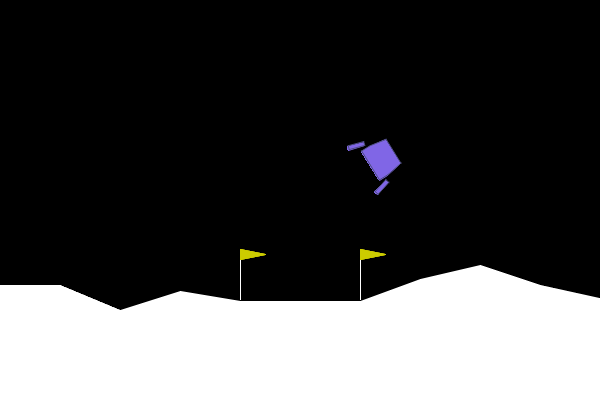lander: (345, 125, 411, 197)
